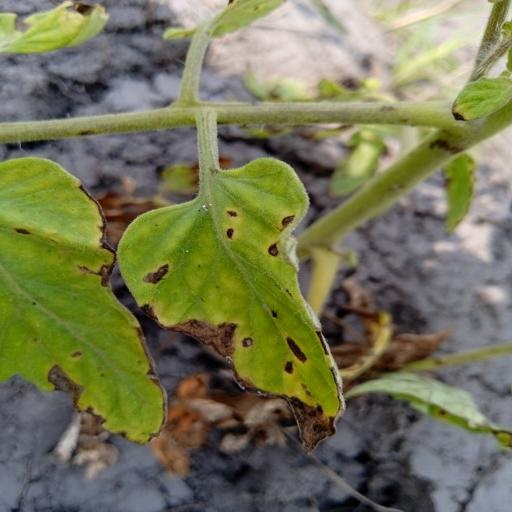Tomato_Brown_Spots: (110, 152, 352, 454), (0, 152, 172, 447)
